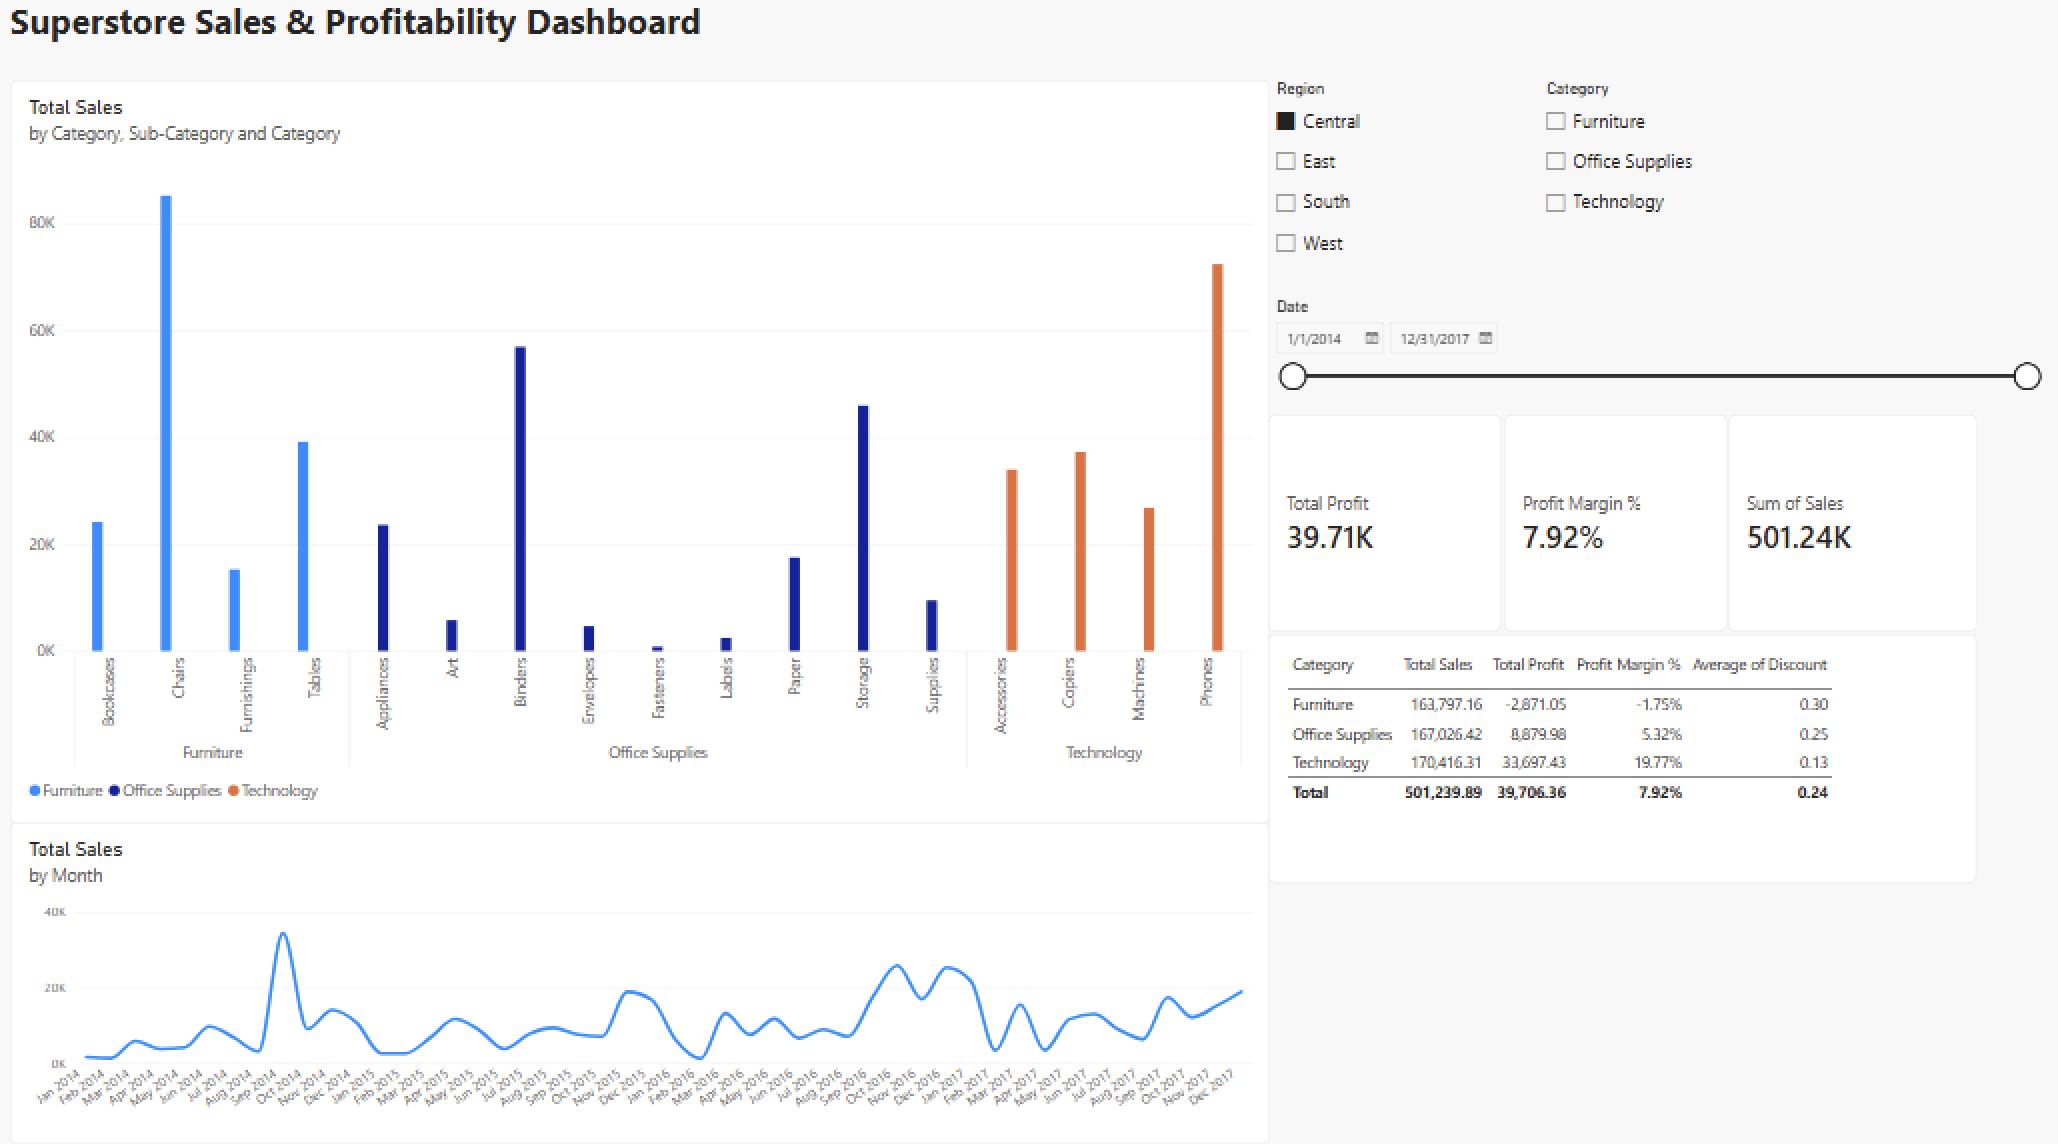

What the dashboard file says about the page in this screenshot:
{"tool":"powerbi","page":{"name":"Page 1","canvas":[1920,1080],"ordinal":0},"visuals":[{"type":"clusteredColumnChart","fields":{"Category":["Sample - Superstore.Category","Sample - Superstore.Sub-Category"],"Series":["Sample - Superstore.Category"],"Y":["Sample - Superstore.Total Sales"]},"box":[8.8,85.5,1172.6,692.6],"z":0},{"type":"slicer","fields":{"Values":["Sample - Superstore.Region"]},"box":[1181.4,85.5,249.9,203.8],"z":2},{"type":"cardVisual","fields":{"Data":["Sum(Sample - Superstore.Sales)"]},"box":[1608.8,396.7,232.3,203.8],"z":3},{"type":"cardVisual","fields":{"Data":["Sample - Superstore.Total Profit"]},"box":[1181.4,396.7,218.6,203.8],"z":4},{"type":"cardVisual","fields":{"Data":["Sample - Superstore.Profit Margin %"]},"box":[1400.5,396.7,208.2,203.8],"z":5},{"type":"lineChart","fields":{"Category":["DateTable.Month"],"Y":["Sample - Superstore.Total Sales"]},"box":[8.8,775.9,1172.6,300.3],"z":6},{"type":"slicer","fields":{"Values":["Sample - Superstore.Category"]},"box":[1431.2,85.5,219.2,203.8],"z":7},{"type":"slicer","fields":{"Values":["DateTable.Date"]},"box":[1181.4,289.3,723.3,171],"z":8},{"type":"tableEx","fields":{"Values":["Sample - Superstore.Category","Sample - Superstore.Total Sales","Sample - Superstore.Total Profit","Sample - Superstore.Profit Margin %","Avg(Sample - Superstore.Discount)"]},"box":[1181.4,600.5,659.7,232.3],"z":9},{"type":"textbox","box":[8.8,6.6,672.9,48.2],"z":10}]}

Visuals, with their boxes in screenshot pixels (x1, y1, x2, y2), scaled from the page's 1920x1080 canvas onto the 2058x1144 screenshot:
clusteredColumnChart - Sample - Superstore.Category x Sample - Superstore.Sub-Category: BBox(9, 91, 1266, 824)
slicer - Sample - Superstore.Region: BBox(1266, 91, 1534, 306)
cardVisual - Sum(Sample - Superstore.Sales): BBox(1724, 420, 1973, 636)
cardVisual - Sample - Superstore.Total Profit: BBox(1266, 420, 1501, 636)
cardVisual - Sample - Superstore.Profit Margin %: BBox(1501, 420, 1724, 636)
lineChart - DateTable.Month x Sample - Superstore.Total Sales: BBox(9, 822, 1266, 1140)
slicer - Sample - Superstore.Category: BBox(1534, 91, 1769, 306)
slicer - DateTable.Date: BBox(1266, 306, 2042, 488)
tableEx - Sample - Superstore.Category x Sample - Superstore.Total Sales: BBox(1266, 636, 1973, 882)
textbox: BBox(9, 7, 731, 58)
